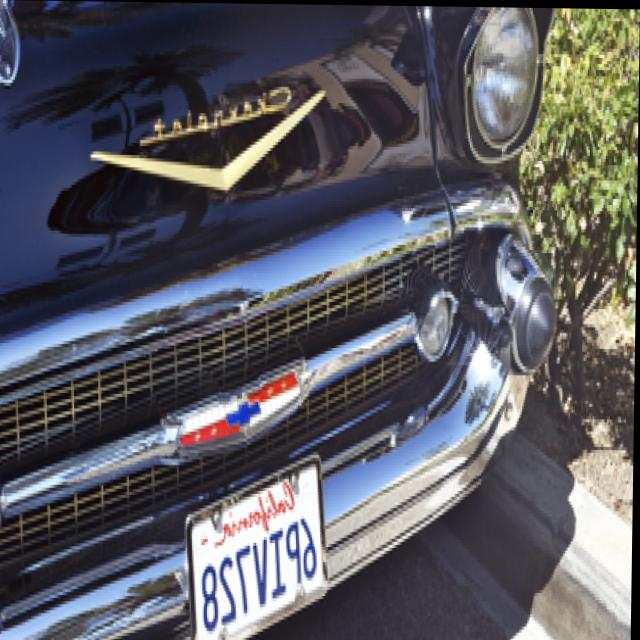licence: (196, 456, 324, 640)
